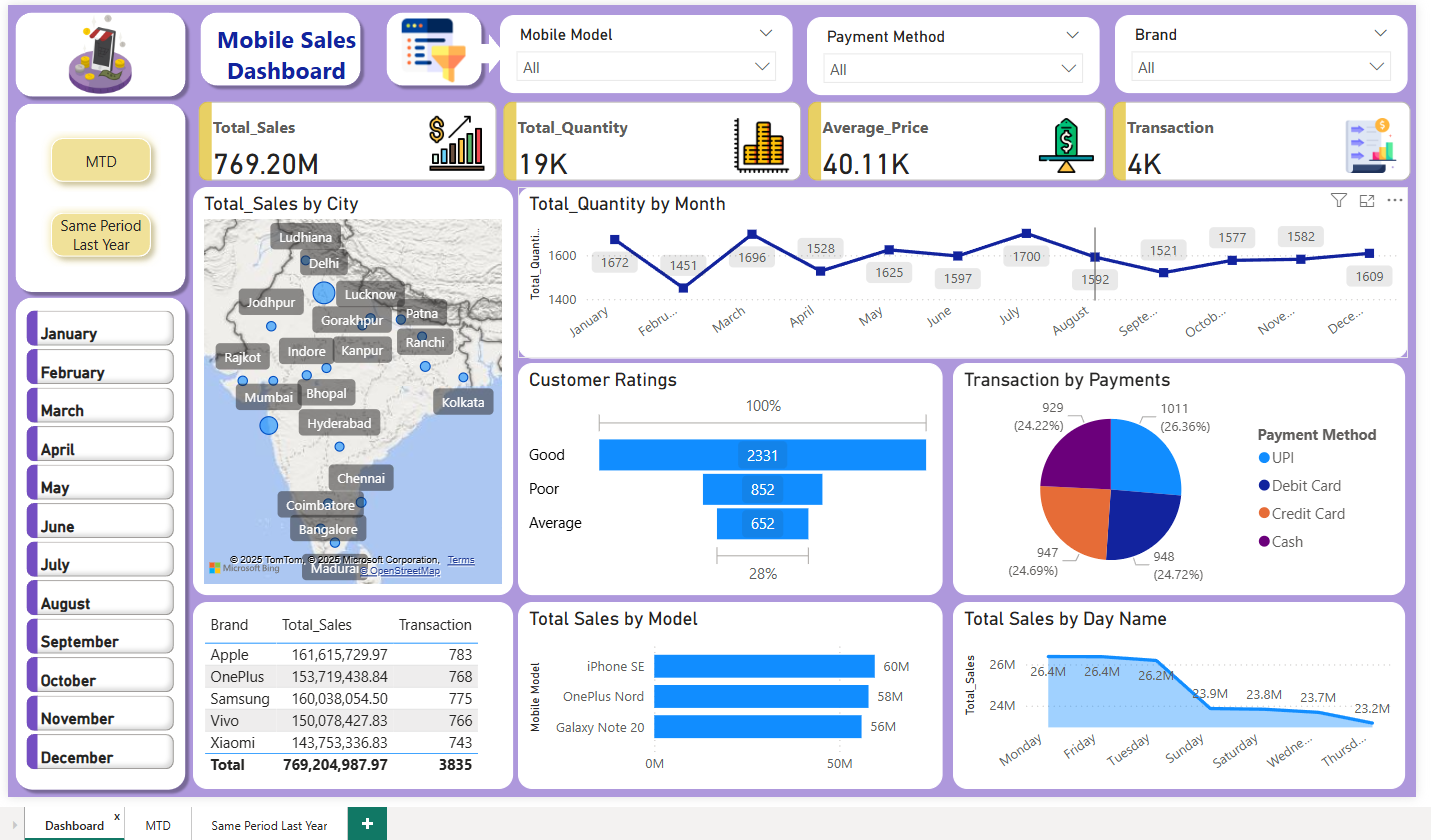

What the dashboard file says about the page in this screenshot:
{"tool":"powerbi","page":{"name":"Dashboard","canvas":[1280,720],"ordinal":0},"visuals":[{"type":"shape","box":[0,0,168,90],"z":0},{"type":"shape","box":[0,83,168,185],"z":1000},{"type":"shape","box":[0,258.9,168.5,461.1],"z":2000},{"type":"image","box":[5.5,0,157.3,89.1],"z":3000},{"type":"advancedSlicerVisual","fields":{"Values":["Custom_Calender.Date.Variation.Date Hierarchy.Month"]},"box":[12,273,144,431],"z":4000},{"type":"cardVisual","fields":{"Data":["Sales_Data.Total_Sales","Sales_Data.Total_Quantity","Sales_Data.Average_Price","Sales_Data.Transaction"]},"box":[168,83,1112,82],"z":5000},{"type":"shape","box":[168,0,159,80],"z":6000},{"type":"slicer","fields":{"Values":["Sales_Data.Mobile Model"]},"box":[447,9,266,71],"z":7000},{"type":"slicer","fields":{"Values":["Sales_Data.Brand"]},"box":[1006.6,8.8,265.6,71.3],"z":8000},{"type":"slicer","fields":{"Values":["Sales_Data.Payment Method"]},"box":[726.4,10.7,265.6,71.3],"z":9000},{"type":"shape","box":[337,0,100,80],"z":10000},{"type":"image","box":[310.9,7.3,152.7,68.2],"z":11000},{"type":"shape","box":[422.8,26.4,29.3,36.1],"z":12000},{"type":"textbox","box":[168.9,10.7,167.9,78.1],"z":13000},{"type":"map","fields":{"Category":["Sales_Data.City"],"Size":["Sales_Data.Total_Sales"]},"box":[168,165,291,371],"z":14000},{"type":"lineChart","fields":{"Y":["Sales_Data.Total_Quantity"],"Category":["Custom_Calender.Date.Variation.Date Hierarchy.Month"]},"box":[464,165,809,156],"z":15000},{"type":"funnel","title":" Customer Ratings","fields":{"Category":["Sales_Data.Rating Status"],"Y":["CountNonNull(Sales_Data.Customer Ratings)"]},"box":[463.6,325.5,386.4,210.9],"z":16000},{"type":"pieChart","title":"Transaction by Payments","fields":{"Y":["Sales_Data.Transaction"],"Category":["Sales_Data.Payment Method"]},"box":[859.1,325.5,410.9,210.9],"z":17000},{"type":"barChart","title":"Total Sales by Model","fields":{"Y":["Sales_Data.Total_Sales"],"Category":["Sales_Data.Mobile Model"]},"box":[463.6,542.7,386.4,170],"z":18000},{"type":"areaChart","title":"Total Sales by Day Name","fields":{"Y":["Sales_Data.Total_Sales"],"Category":["Custom_Calender.Day Name"]},"box":[859.1,542.7,410.9,170],"z":19000},{"type":"tableEx","fields":{"Values":["Sales_Data.Brand","Sales_Data.Total_Sales","Sales_Data.Transaction"]},"box":[168,543,291,170],"z":20000},{"type":"pageNavigator","box":[30,111.8,109.1,127.3],"z":20001}]}

Visuals, with their boxes in screenshot pixels (x1, y1, x2, y2):
shape: box(4, 0, 189, 99)
shape: box(4, 92, 189, 295)
shape: box(4, 285, 190, 794)
image: box(10, 0, 183, 98)
advancedSlicerVisual - Custom_Calender.Date.Variation.Date Hierarchy.Month: box(17, 301, 176, 776)
cardVisual - Sales_Data.Total_Sales x Sales_Data.Total_Quantity: box(189, 92, 1415, 182)
shape: box(189, 0, 364, 88)
slicer - Sales_Data.Mobile Model: box(497, 10, 790, 88)
slicer - Sales_Data.Brand: box(1114, 10, 1406, 88)
slicer - Sales_Data.Payment Method: box(805, 12, 1097, 90)
shape: box(375, 0, 486, 88)
image: box(347, 8, 515, 83)
shape: box(470, 29, 502, 69)
textbox: box(190, 12, 375, 98)
map - Sales_Data.City x Sales_Data.Total_Sales: box(189, 182, 510, 591)
lineChart - Sales_Data.Total_Quantity x Custom_Calender.Date.Variation.Date Hierarchy.Month: box(515, 182, 1407, 354)
" Customer Ratings" funnel: box(515, 359, 941, 591)
"Transaction by Payments" pieChart: box(951, 359, 1404, 591)
"Total Sales by Model" barChart: box(515, 598, 941, 786)
"Total Sales by Day Name" areaChart: box(951, 598, 1404, 786)
tableEx - Sales_Data.Brand x Sales_Data.Total_Sales: box(189, 599, 510, 786)
pageNavigator: box(37, 123, 157, 264)
